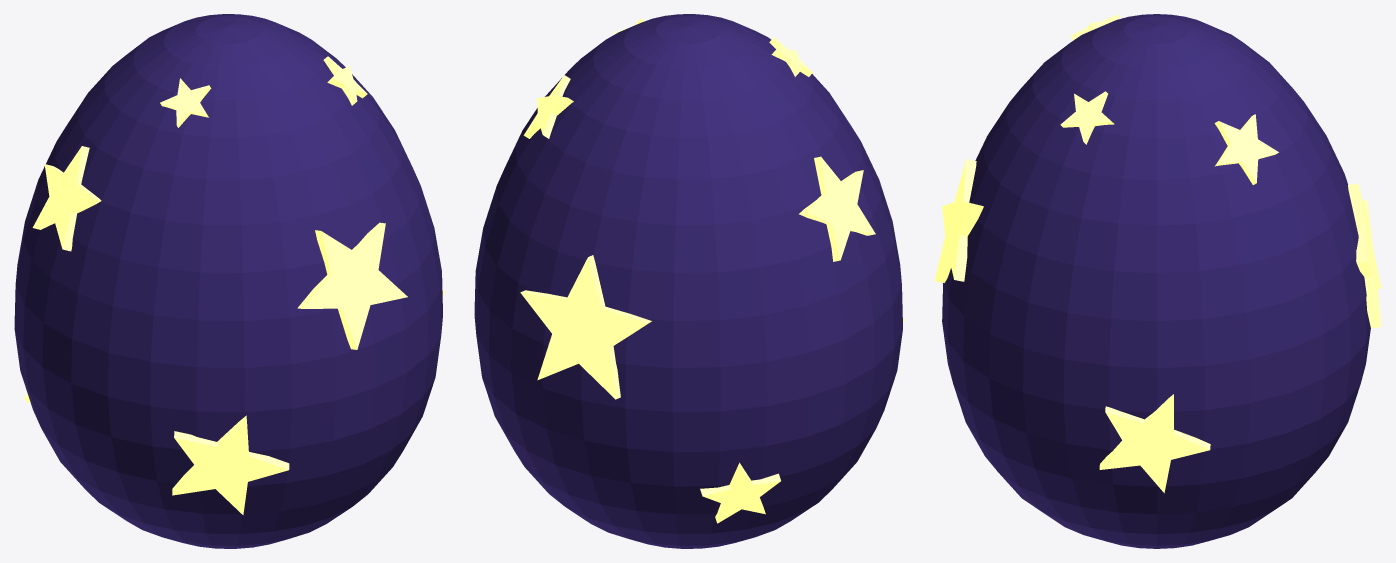
File: SpaceEgg.fbx
The picture shows the model from 3 angles, left to right: view 1: azimuth 30°, elevation 25°; view 2: azimuth 150°, elevation 25°; view 3: azimuth 270°, elevation 25°; orthographic projection.
Parts seen in each view (by area): view 1: Egg_3B2A7A, Egg_FFD84A_Neon; view 2: Egg_3B2A7A, Egg_FFD84A_Neon; view 3: Egg_3B2A7A, Egg_FFD84A_Neon.
Part boxes in pixels (bbox=[...]): Egg_3B2A7A: bbox=[14, 14, 442, 548]; Egg_FFD84A_Neon: bbox=[24, 56, 445, 514]; Egg_3B2A7A: bbox=[474, 14, 902, 548]; Egg_FFD84A_Neon: bbox=[475, 18, 904, 523]; Egg_3B2A7A: bbox=[942, 14, 1370, 548]; Egg_FFD84A_Neon: bbox=[934, 14, 1381, 493].
Size of the model in its own units: 2.06 by 2.6 by 2.09.
